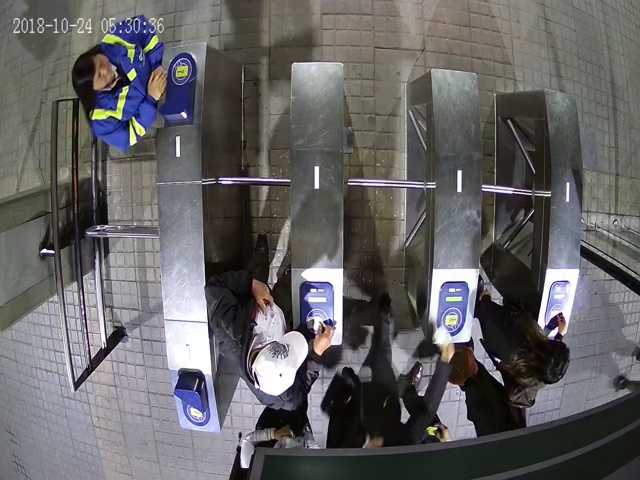Chaleco_azul: (72, 14, 168, 149)
